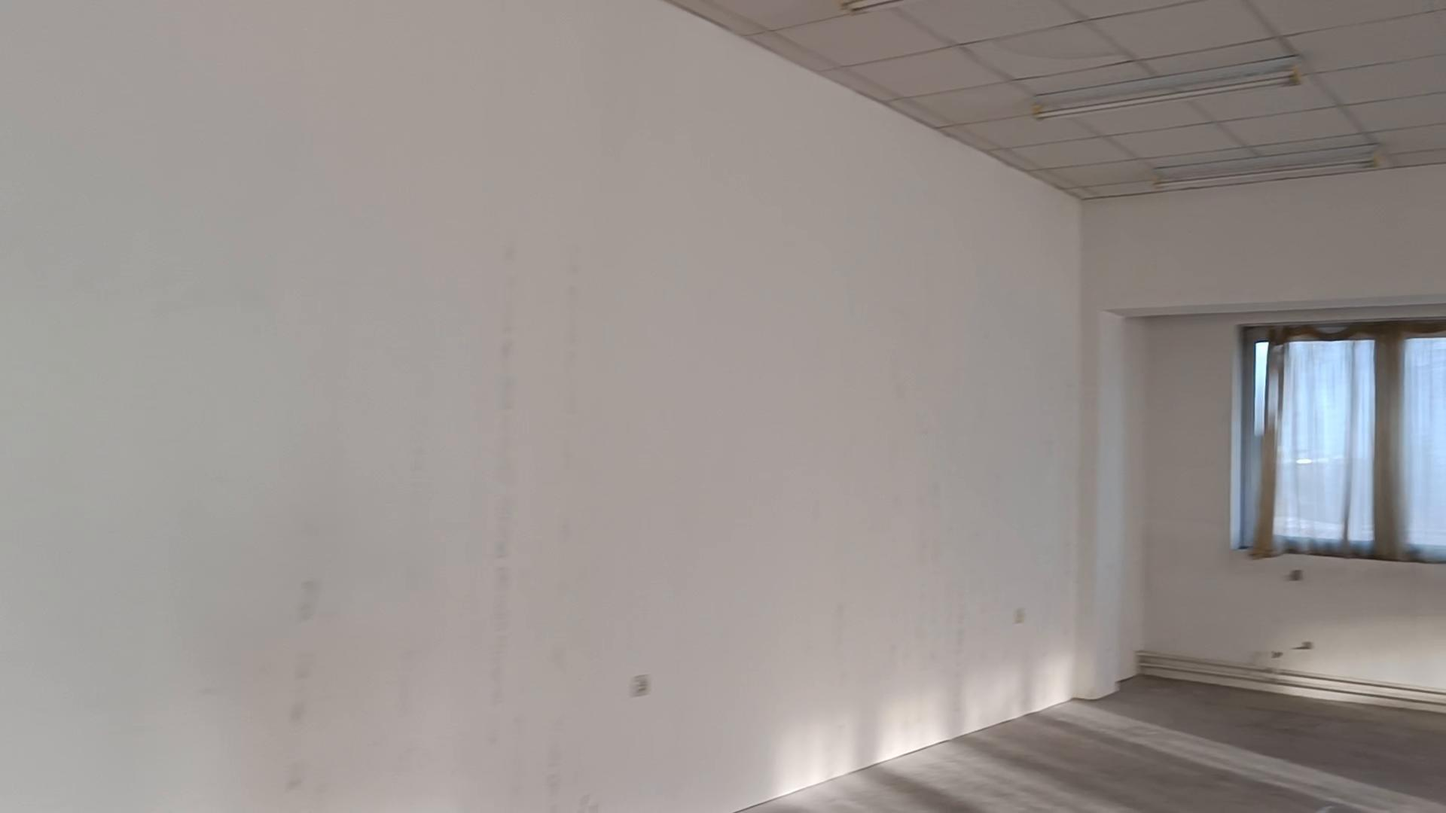ceiling: (669, 0, 1445, 198)
floor: (743, 677, 1445, 812)
wall: (0, 0, 1445, 812), (1133, 307, 1442, 691), (1241, 559, 1445, 685)
